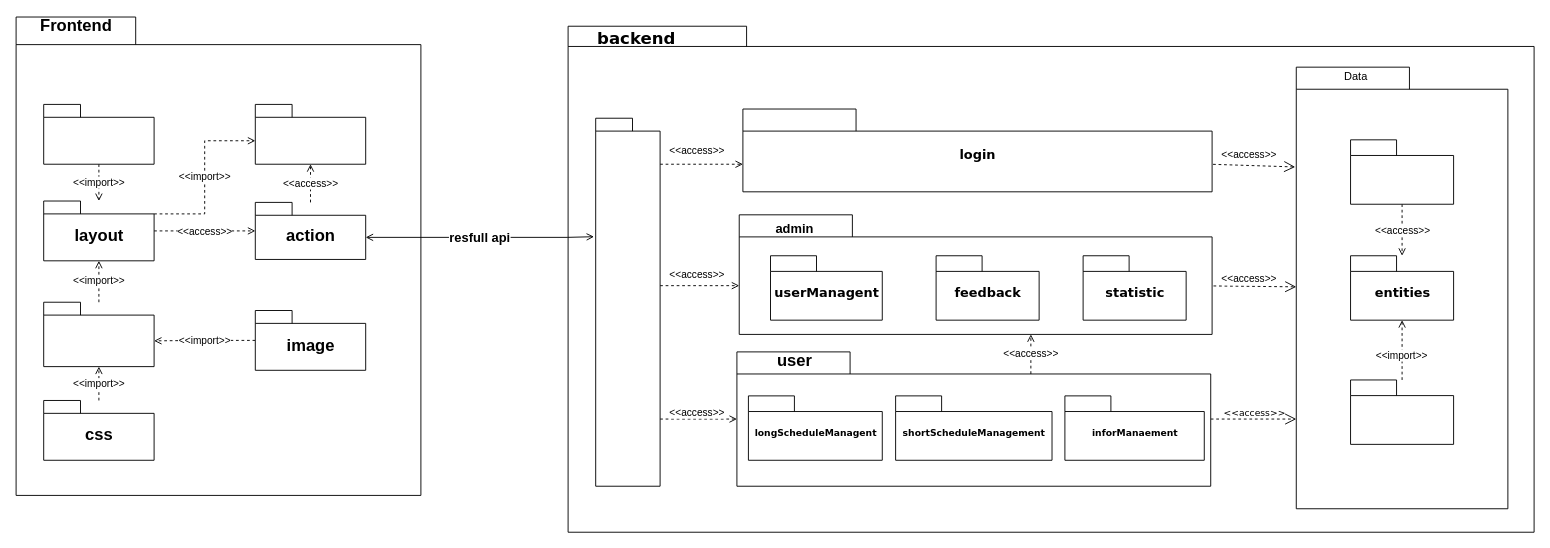
This 1550x548 diagram has some shape labels left out. Here are the shapes that lost their labels. From the top down, the box of each, then its label:
(43, 104, 154, 164): const
(254, 104, 366, 164): reducer
(1350, 139, 1454, 204): patterns
(595, 117, 660, 486): JWT
(43, 301, 154, 367): component
(1350, 379, 1454, 444): repository
